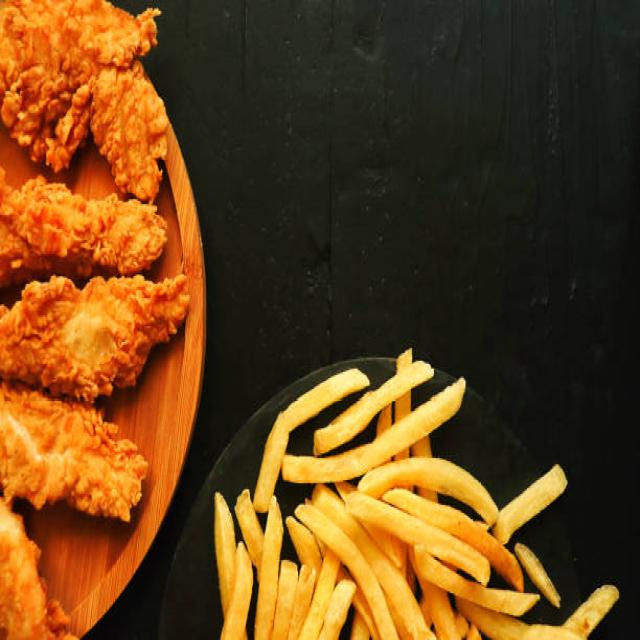Frango: (0, 0, 195, 640)
